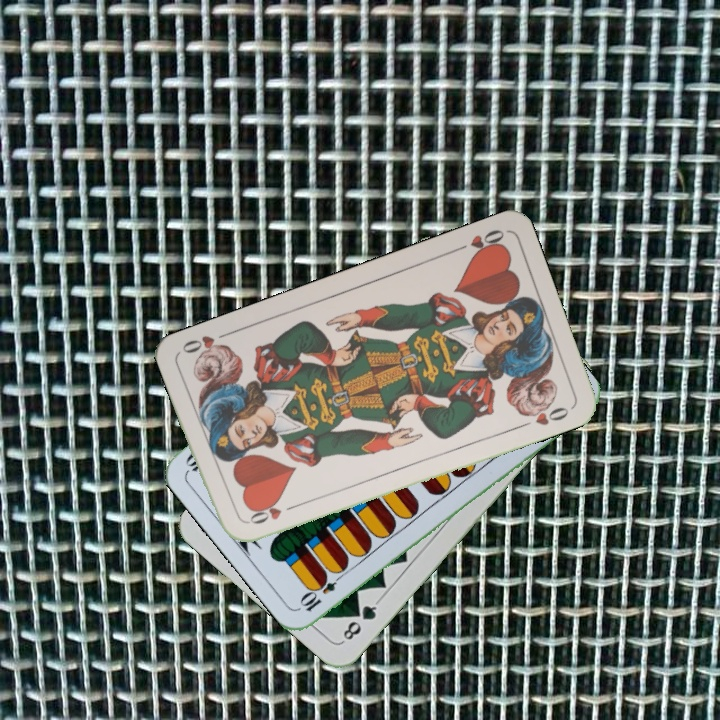E10: (296, 567, 347, 615)
G8: (338, 596, 382, 643)
HO: (450, 225, 507, 258), (242, 500, 299, 527)
